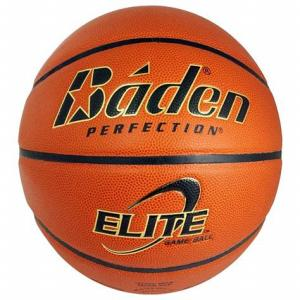Basket: (18, 5, 283, 295)
